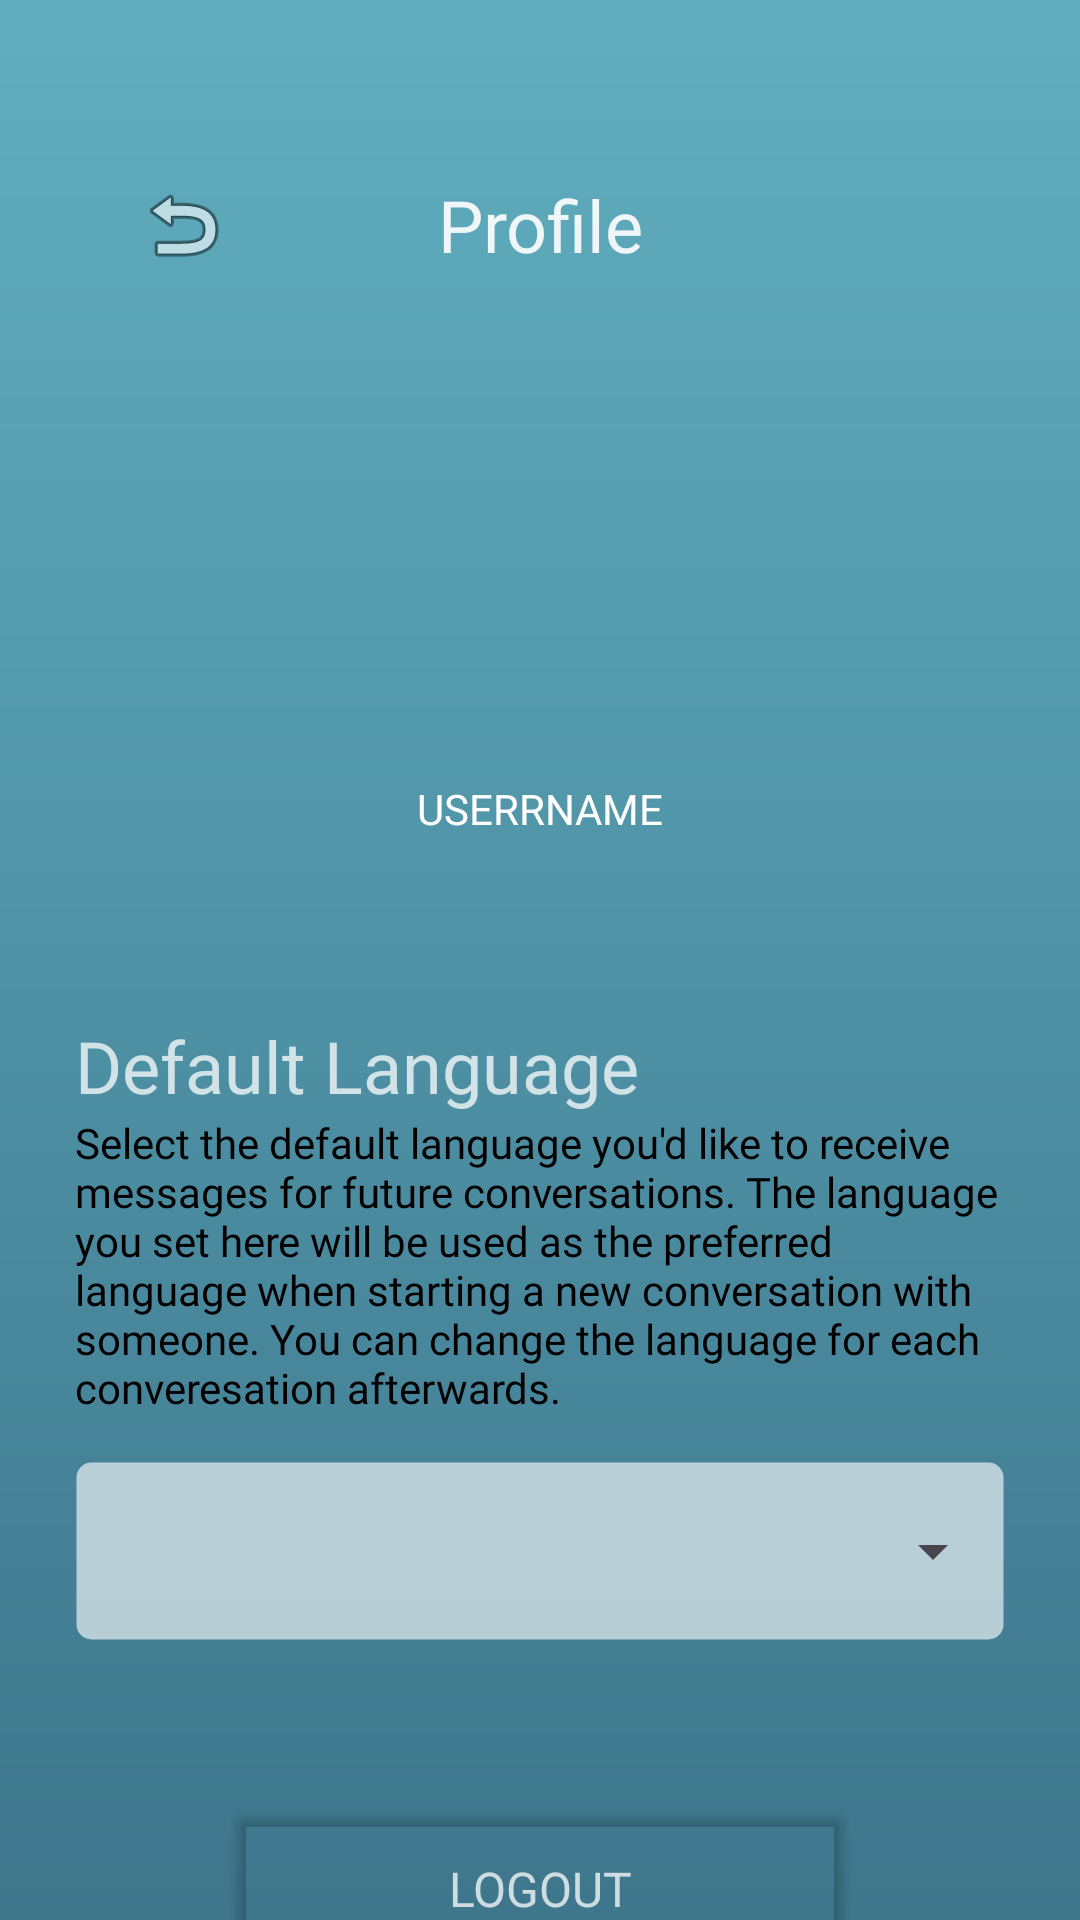

Screen size 1080×1920. Icon name, then its center in pixels as point (x, y):
revert: point (184, 225)
